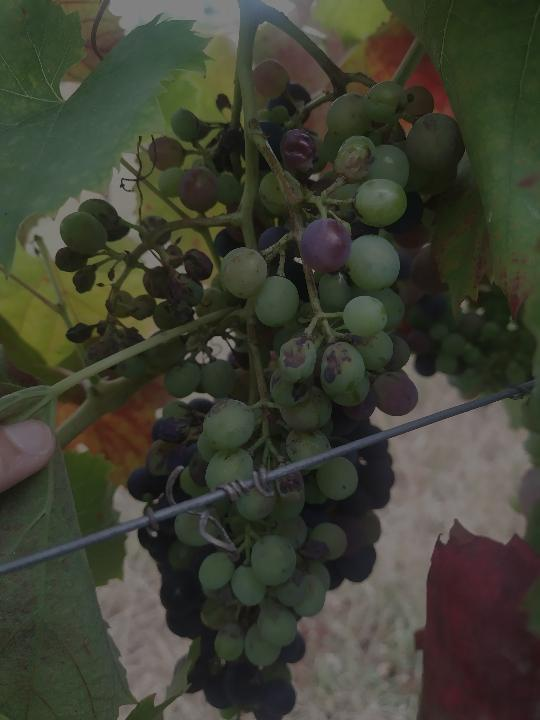grape: (50, 58, 469, 720)
